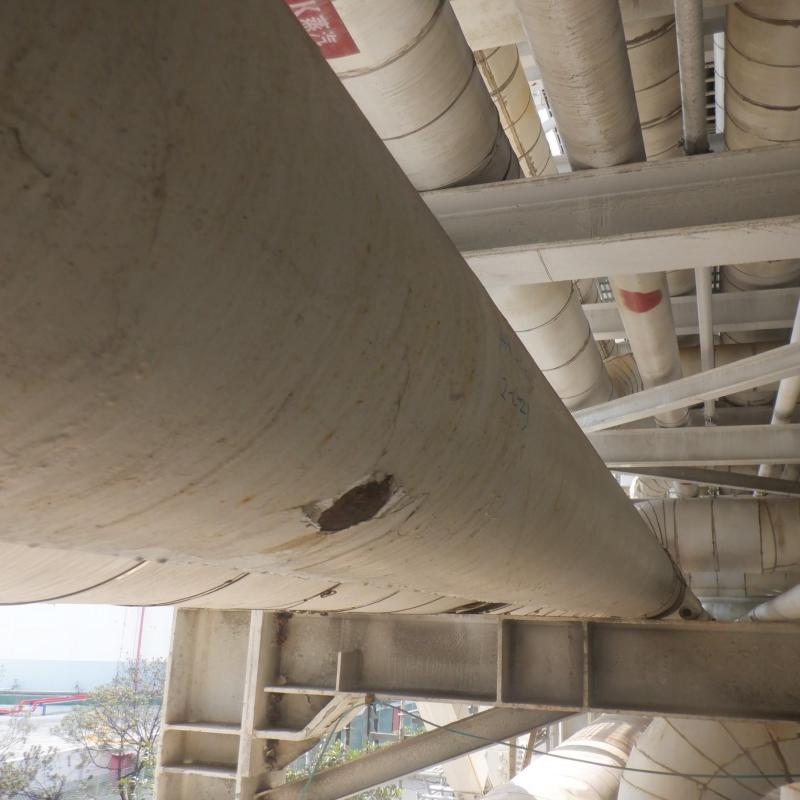corrosion: (323, 473, 395, 530)
